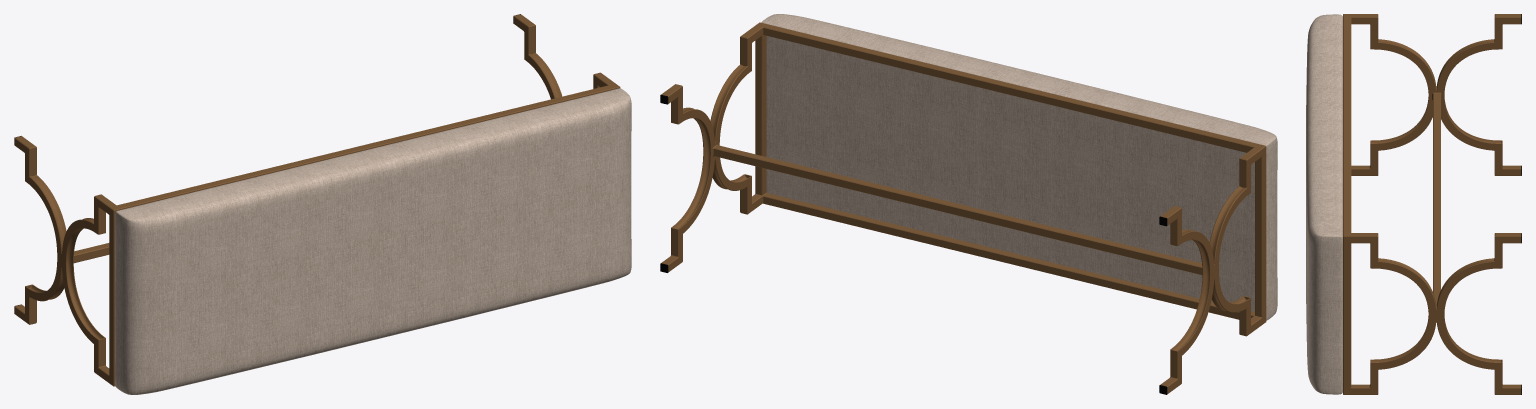
Rendered from LaylaGrayce_Cream_Double_Bench.obj.
3 renders of one model, left to right at view 1: azimuth 30°, elevation 25°; view 2: azimuth 150°, elevation 25°; view 3: azimuth 270°, elevation 25°, orthographic. The views are drawn at different scales.
Visible parts, largest first — view 1: LaylaGrayce_Cream_Double_Bench; view 2: LaylaGrayce_Cream_Double_Bench; view 3: LaylaGrayce_Cream_Double_Bench.
Boxes of the visible parts, bbox=[...] form: LaylaGrayce_Cream_Double_Bench: bbox=[14, 14, 631, 394]; LaylaGrayce_Cream_Double_Bench: bbox=[660, 14, 1277, 394]; LaylaGrayce_Cream_Double_Bench: bbox=[1306, 14, 1521, 394].
Bounding box in the file's own units: 130 × 43.68 × 53.11.
